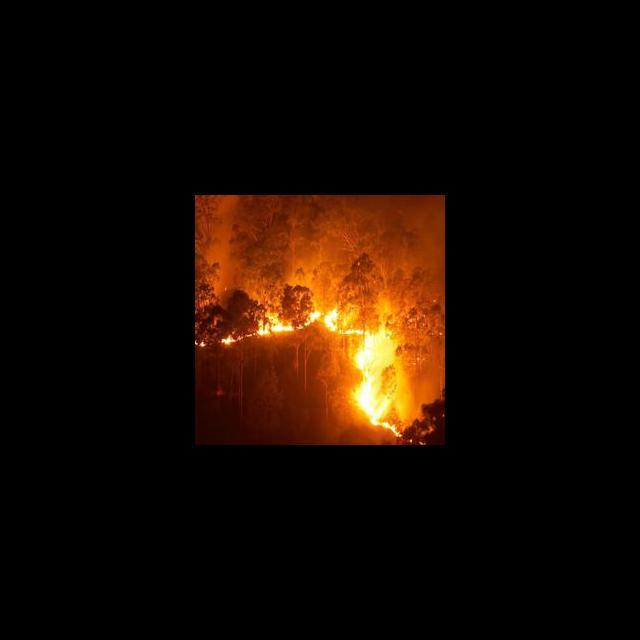Fire: (322, 310, 420, 437), (196, 297, 324, 353)
